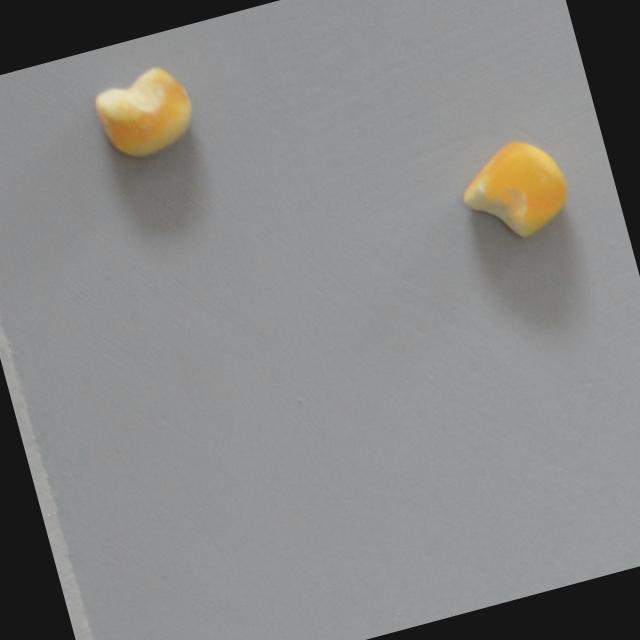dañado: (84, 55, 205, 170)
no_canjicado: (447, 127, 580, 255)
